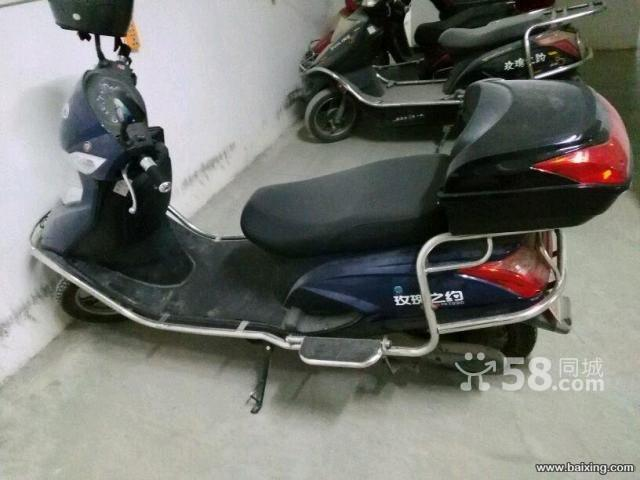电动车: (19, 1, 631, 409)
